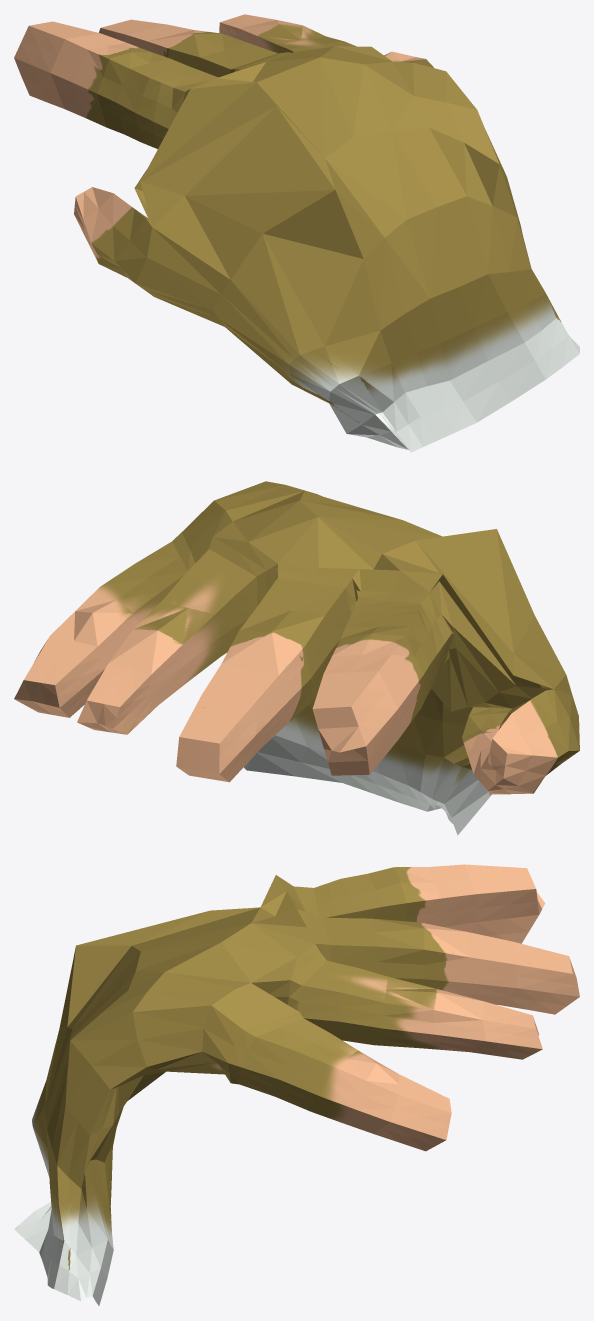
The model's file is flexion0042.obj.
The picture shows the model from 3 angles, top to bottom: view 1: azimuth 30°, elevation 25°; view 2: azimuth 150°, elevation 25°; view 3: azimuth 270°, elevation 25°; orthographic projection. The views are drawn at different scales.
Visible parts, largest first — view 1: Hand; view 2: Hand; view 3: Hand.
Part boxes in pixels (<box>): Hand: <box>14,14,579,452</box>; Hand: <box>14,481,579,835</box>; Hand: <box>14,864,579,1305</box>.
Bounding box in the file's own units: 3.27 × 2.52 × 3.87.
